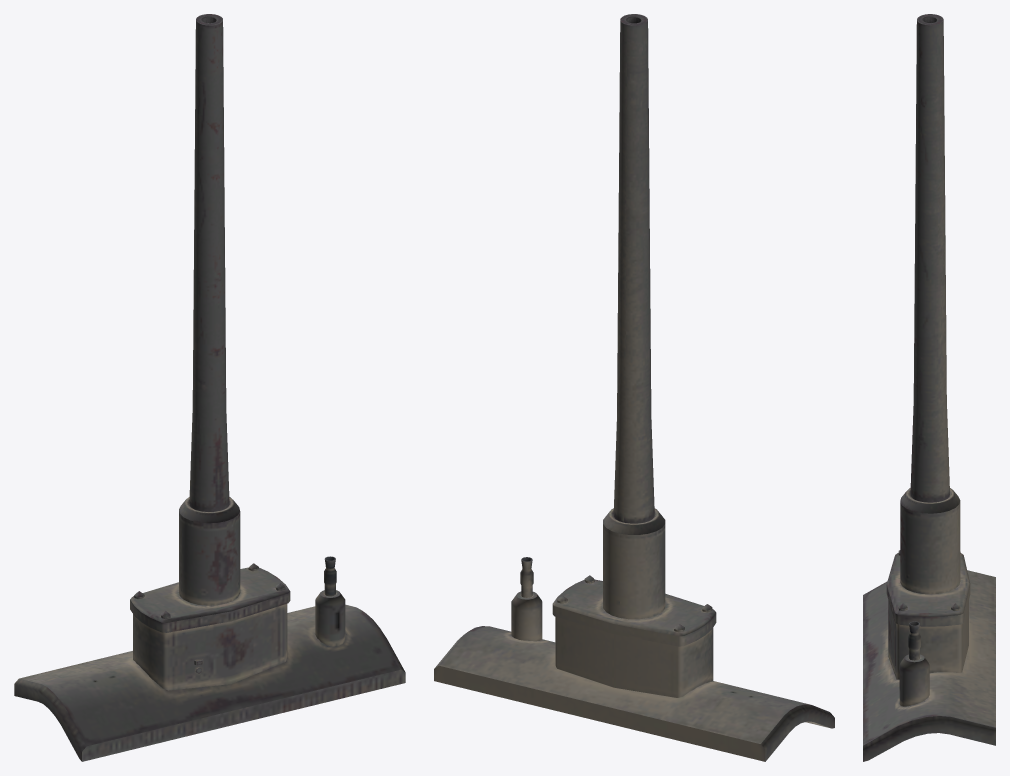
File: Gun_03.glb
3 views of the same model, side by side, from view 1: azimuth 30°, elevation 25°; view 2: azimuth 150°, elevation 25°; view 3: azimuth 270°, elevation 25° (orthographic). The views are drawn at different scales.
Visible parts, largest first — view 1: set_0_group_0; view 2: set_0_group_0; view 3: set_0_group_0.
Boxes of the visible parts, <box> form: set_0_group_0: <box>14,14,405,761</box>; set_0_group_0: <box>434,14,834,761</box>; set_0_group_0: <box>863,14,995,761</box>.
Bounding box in the file's own units: 1.16 × 2.34 × 0.4218.
Materials: 1 (1 with a texture image).
